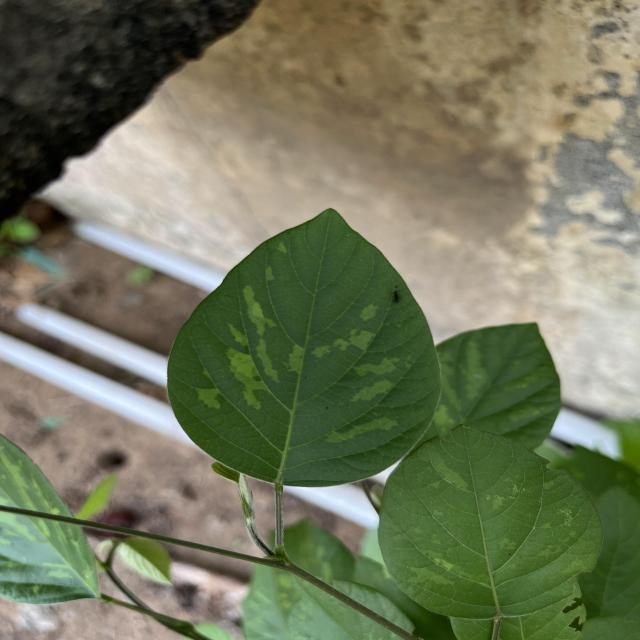Desmodium gangeticum: (162, 205, 448, 492), (376, 418, 608, 622)
